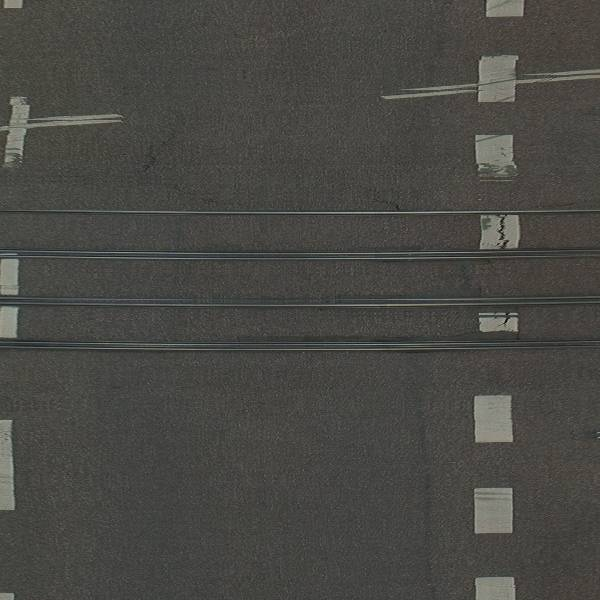road_damage: (401, 389, 448, 600), (138, 124, 220, 206)
